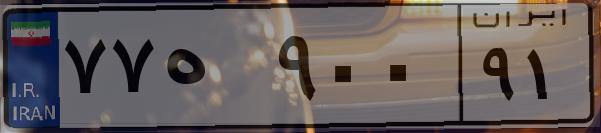0: (385, 28, 445, 110), (330, 28, 385, 110)
1: (525, 38, 570, 115)
7: (57, 26, 110, 100), (110, 28, 158, 98)
9: (270, 28, 330, 110), (475, 38, 525, 113)
ه: (158, 20, 270, 120)
